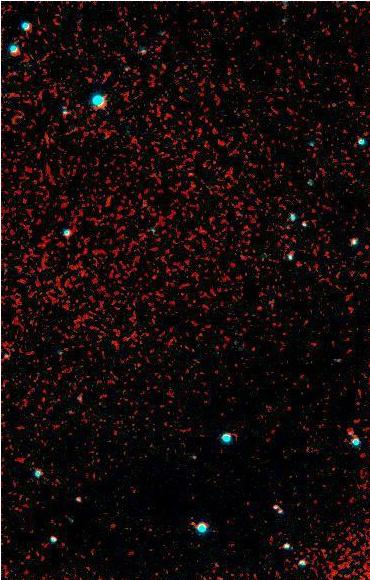star: (89, 69, 119, 99)
